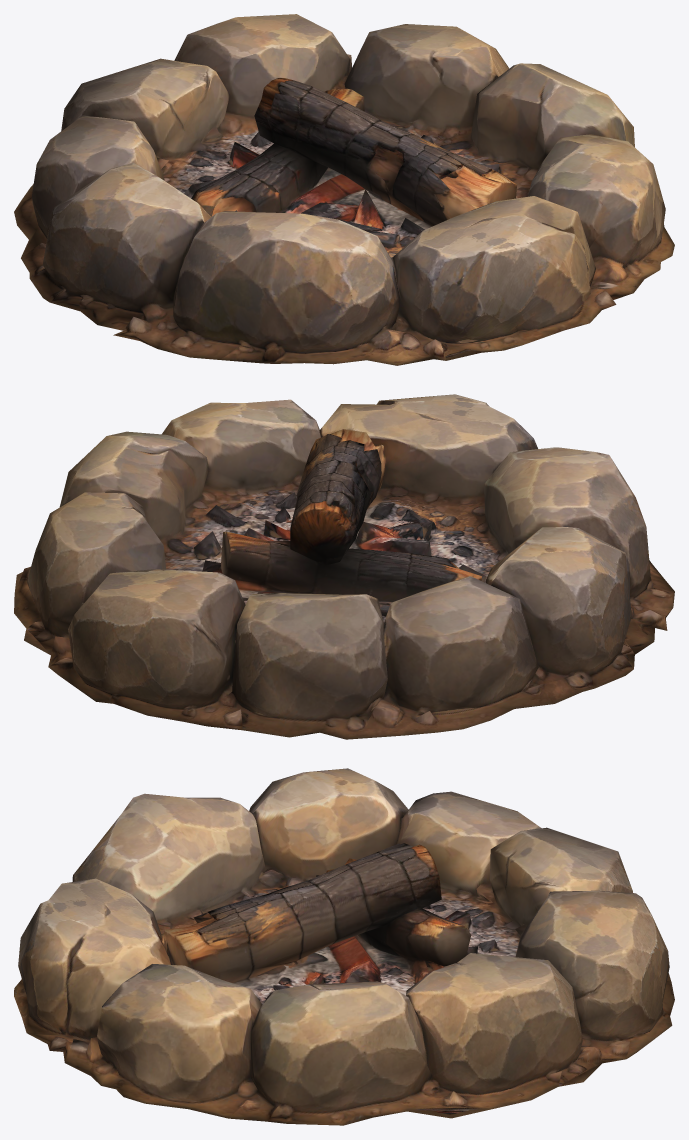
Rendered from campfire-ring-v2-original.glb.
3 renders of one model, top to bottom at view 1: azimuth 30°, elevation 25°; view 2: azimuth 150°, elevation 25°; view 3: azimuth 270°, elevation 25°, orthographic.
Parts seen in each view (by area): view 1: tripo_node_87fe188c-17d4-44e6-b6db-b6047d940803; view 2: tripo_node_87fe188c-17d4-44e6-b6db-b6047d940803; view 3: tripo_node_87fe188c-17d4-44e6-b6db-b6047d940803.
Part boxes in pixels (<box>): tripo_node_87fe188c-17d4-44e6-b6db-b6047d940803: <box>14,14,674,365</box>; tripo_node_87fe188c-17d4-44e6-b6db-b6047d940803: <box>14,394,674,739</box>; tripo_node_87fe188c-17d4-44e6-b6db-b6047d940803: <box>14,768,674,1125</box>.
Bounding box in the file's own units: 0.9723 × 0.225 × 0.9647.
Materials: 1 (1 with a texture image).
